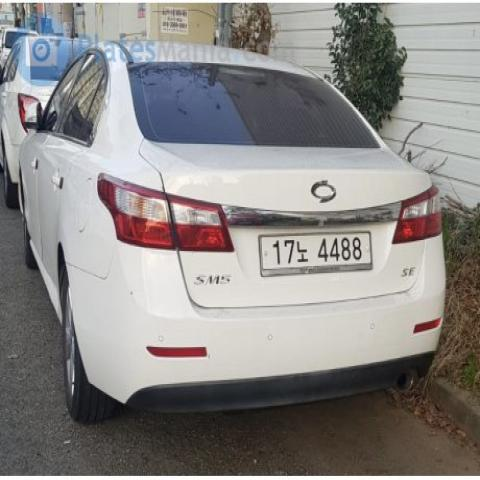LP: (249, 224, 382, 290)
